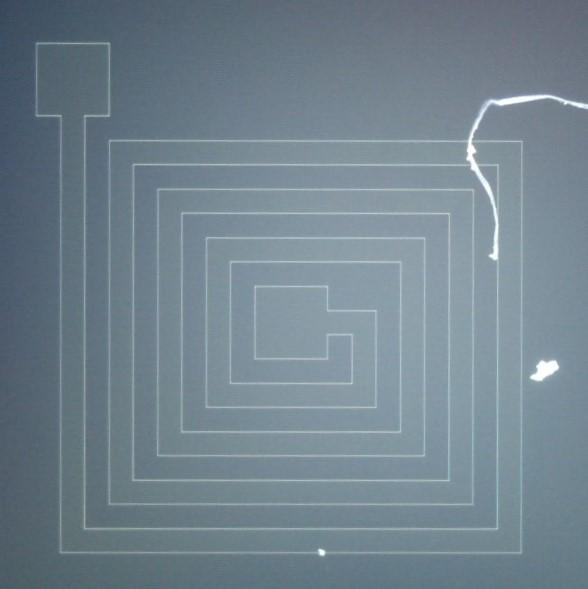B_point: (530, 360, 559, 382), (316, 547, 328, 560)
foreign: (465, 93, 588, 262)
